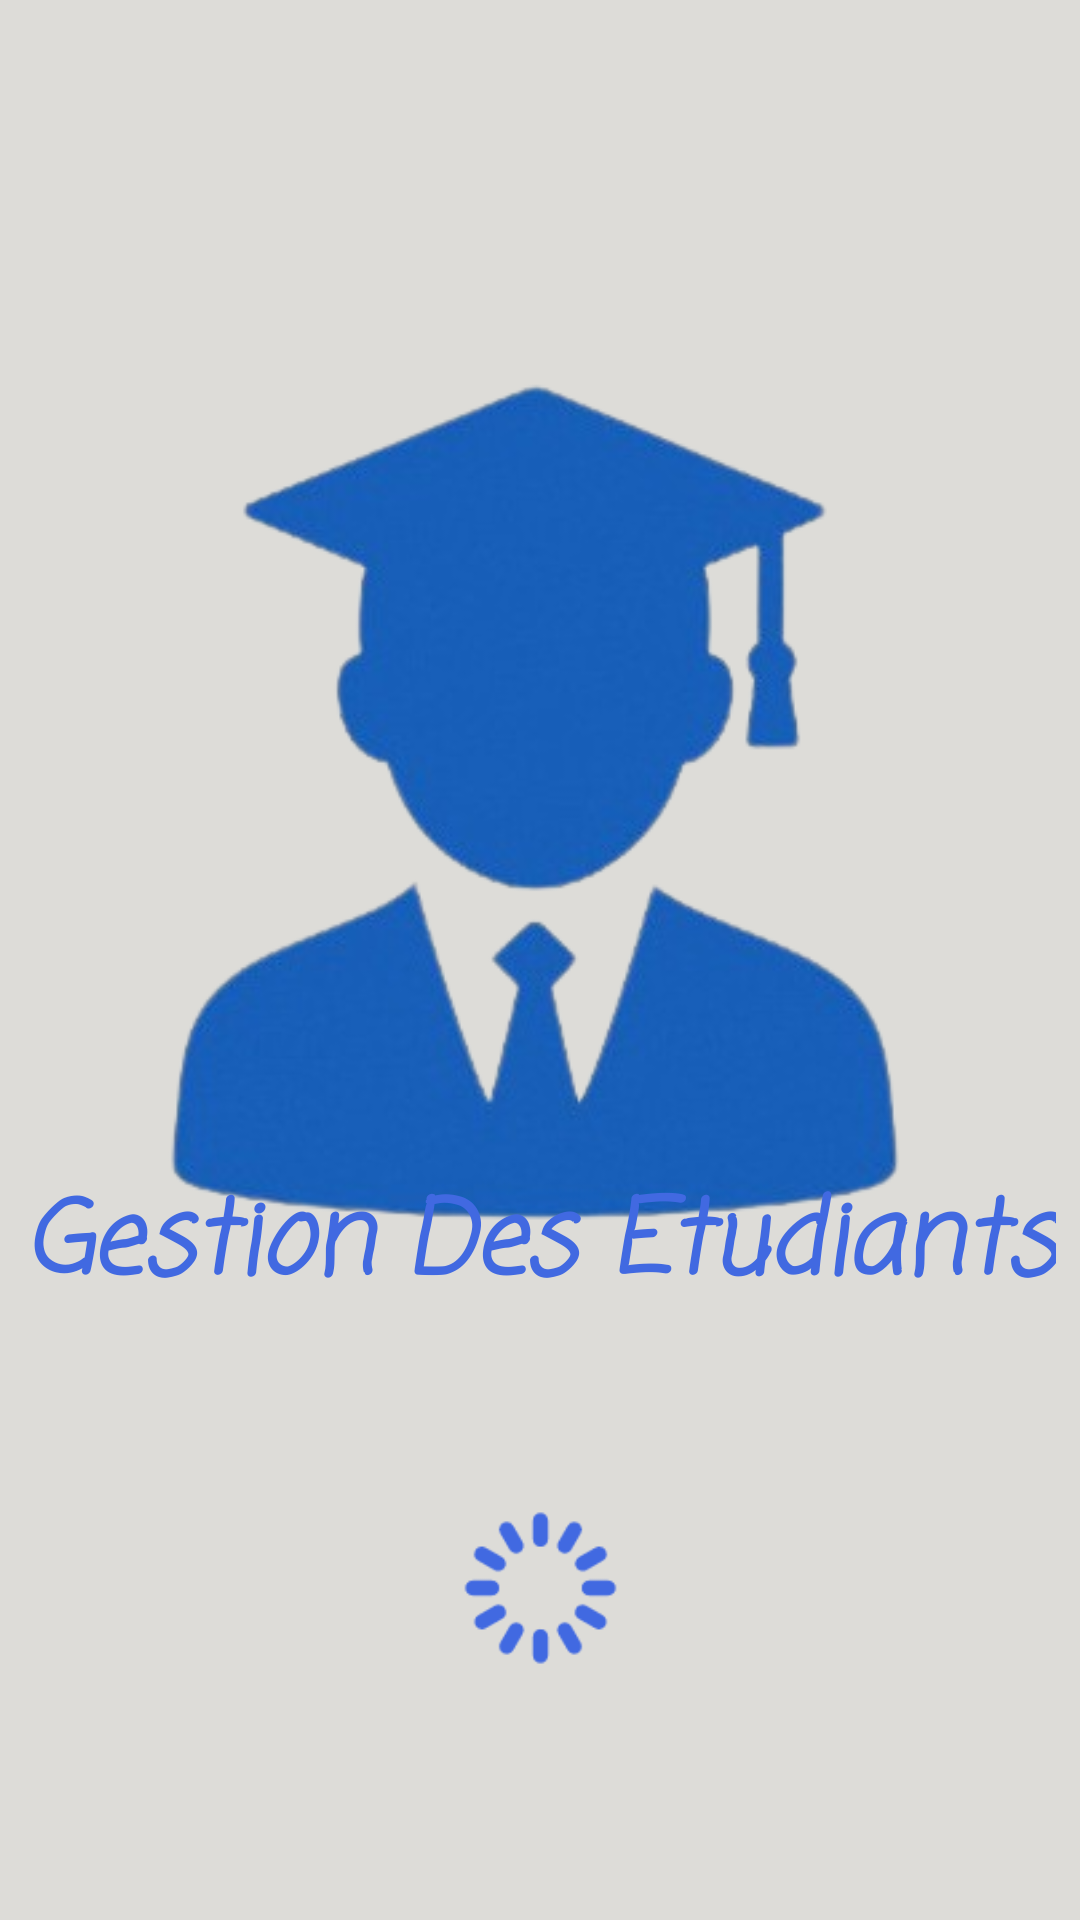

Icon bounding boxes for this 1080*1920 phone screenshot, format (x1,y1,x2,y2):
load: (464,1512,617,1664)
